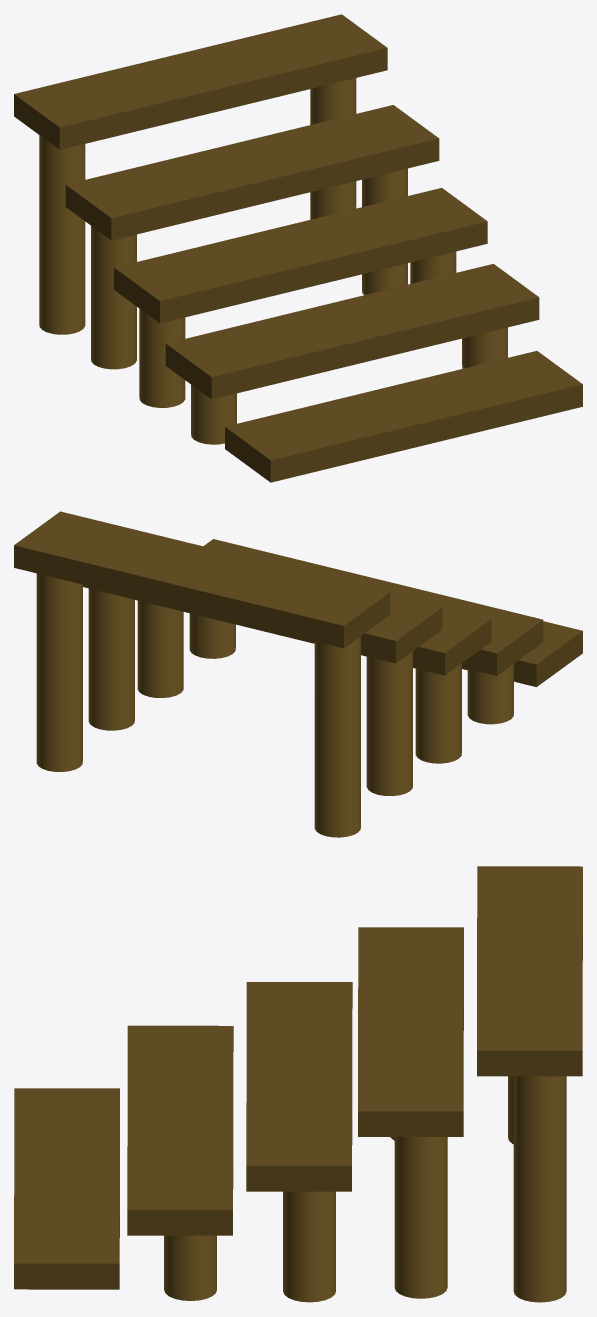
The model's file is stair_case.fbx.
3 views of the same model, one above another, from view 1: azimuth 30°, elevation 25°; view 2: azimuth 150°, elevation 25°; view 3: azimuth 270°, elevation 25° (orthographic). The views are drawn at different scales.
Parts seen in each view (by area): view 1: pasted__pasted__pasted__pasted__pCube1 (×2), pasted__pasted__pasted__pasted__pasted__pCube1, pasted__pasted__pasted__pCube1, pasted__pasted__pasted__pasted__pasted__pasted__pCube1, pasted__pasted__pasted__pasted__pasted__pasted__pCylinder1 (×2), pasted__pasted__pasted__pasted__pasted__pCylinder1 (×2), pasted__pasted__pasted__pasted__pCylinder1 (×2), pasted__pasted__pasted__pasted__pasted__pasted__pasted__pCyl, pasted__pasted__pasted__pCylinder1; view 2: pasted__pasted__pasted__pasted__pasted__pasted__pCube1, pasted__pasted__pasted__pasted__pasted__pasted__pCylinder1 (×2), pasted__pasted__pasted__pasted__pasted__pCylinder1 (×2), pasted__pasted__pasted__pasted__pasted__pasted__pasted__pCyl, pasted__pasted__pasted__pCube1, pasted__pasted__pasted__pasted__pCylinder1 (×2), pasted__pasted__pasted__pasted__pCube1 (×2), pasted__pasted__pasted__pasted__pasted__pCube1, pasted__pasted__pasted__pCylinder1; view 3: pasted__pasted__pasted__pasted__pCube1 (×2), pasted__pasted__pasted__pCube1, pasted__pasted__pasted__pasted__pasted__pasted__pCube1, pasted__pasted__pasted__pasted__pasted__pCube1, pasted__pasted__pasted__pasted__pasted__pasted__pasted__pCyl, pasted__pasted__pasted__pasted__pasted__pasted__pCylinder1, pasted__pasted__pasted__pasted__pasted__pCylinder1, pasted__pasted__pasted__pasted__pCylinder1.
Boxes of the visible parts, left/top/right/bottom form: pasted__pasted__pasted__pasted__pCube1 (×2): left=114, top=188, right=582, bottom=482; pasted__pasted__pasted__pasted__pasted__pCube1: left=65, top=105, right=439, bottom=240; pasted__pasted__pasted__pCube1: left=165, top=264, right=539, bottom=399; pasted__pasted__pasted__pasted__pasted__pasted__pCube1: left=14, top=14, right=387, bottom=149; pasted__pasted__pasted__pasted__pasted__pasted__pCylinder1 (×2): left=39, top=135, right=407, bottom=334; pasted__pasted__pasted__pasted__pasted__pCylinder1 (×2): left=91, top=226, right=456, bottom=369; pasted__pasted__pasted__pasted__pCylinder1 (×2): left=139, top=308, right=507, bottom=407; pasted__pasted__pasted__pasted__pasted__pasted__pasted__pCyl: left=310, top=78, right=356, bottom=219; pasted__pasted__pasted__pCylinder1: left=191, top=384, right=236, bottom=444; pasted__pasted__pasted__pasted__pasted__pasted__pCube1: left=14, top=511, right=390, bottom=648; pasted__pasted__pasted__pasted__pasted__pasted__pCylinder1 (×2): left=88, top=588, right=360, bottom=837; pasted__pasted__pasted__pasted__pasted__pCylinder1 (×2): left=137, top=600, right=412, bottom=795; pasted__pasted__pasted__pasted__pasted__pasted__pasted__pCyl: left=36, top=573, right=82, bottom=771; pasted__pasted__pasted__pCube1: left=203, top=539, right=543, bottom=675; pasted__pasted__pasted__pasted__pCylinder1 (×2): left=189, top=613, right=461, bottom=763; pasted__pasted__pasted__pasted__pCube1 (×2): left=136, top=600, right=582, bottom=686; pasted__pasted__pasted__pasted__pasted__pCube1: left=83, top=585, right=442, bottom=663; pasted__pasted__pasted__pCylinder1: left=467, top=664, right=513, bottom=724; pasted__pasted__pasted__pasted__pCube1 (×2): left=14, top=982, right=352, bottom=1289; pasted__pasted__pasted__pCube1: left=127, top=1025, right=233, bottom=1235; pasted__pasted__pasted__pasted__pasted__pasted__pCube1: left=477, top=866, right=582, bottom=1076; pasted__pasted__pasted__pasted__pasted__pCube1: left=358, top=927, right=463, bottom=1136; pasted__pasted__pasted__pasted__pasted__pasted__pasted__pCyl: left=513, top=1076, right=566, bottom=1302; pasted__pasted__pasted__pasted__pasted__pasted__pCylinder1: left=394, top=1137, right=447, bottom=1298; pasted__pasted__pasted__pasted__pasted__pCylinder1: left=283, top=1191, right=335, bottom=1302; pasted__pasted__pasted__pasted__pCylinder1: left=164, top=1235, right=216, bottom=1300.
Bounding box in the file's own units: 5.57 × 3.61 × 7.27.
